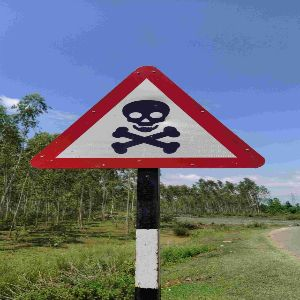Accident prone area: (25, 59, 271, 181)
